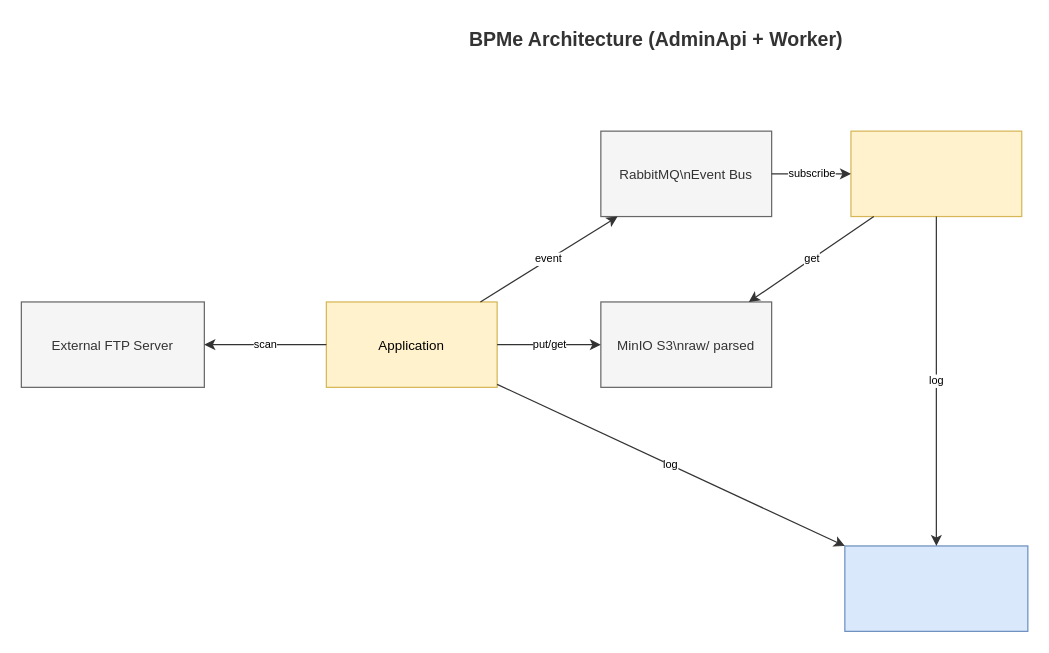
The diagram is 1049 pixels wide and 653 high, and some of its shapes have lost their labels. The box of each missing label's shape, as (x1, y1, x2, y2) in pixels:
bpme.log: (844, 545, 1028, 631)
Consumer App: (850, 130, 1022, 217)
